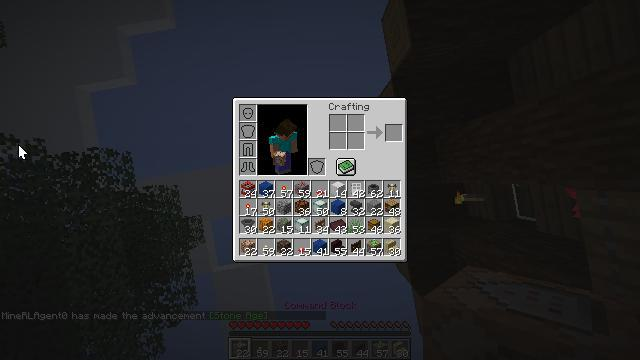cursor: (18, 144, 28, 160)
